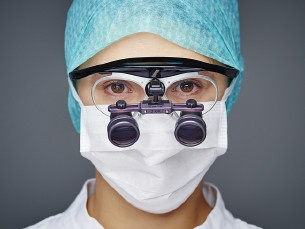Mask: (72, 52, 233, 213)
